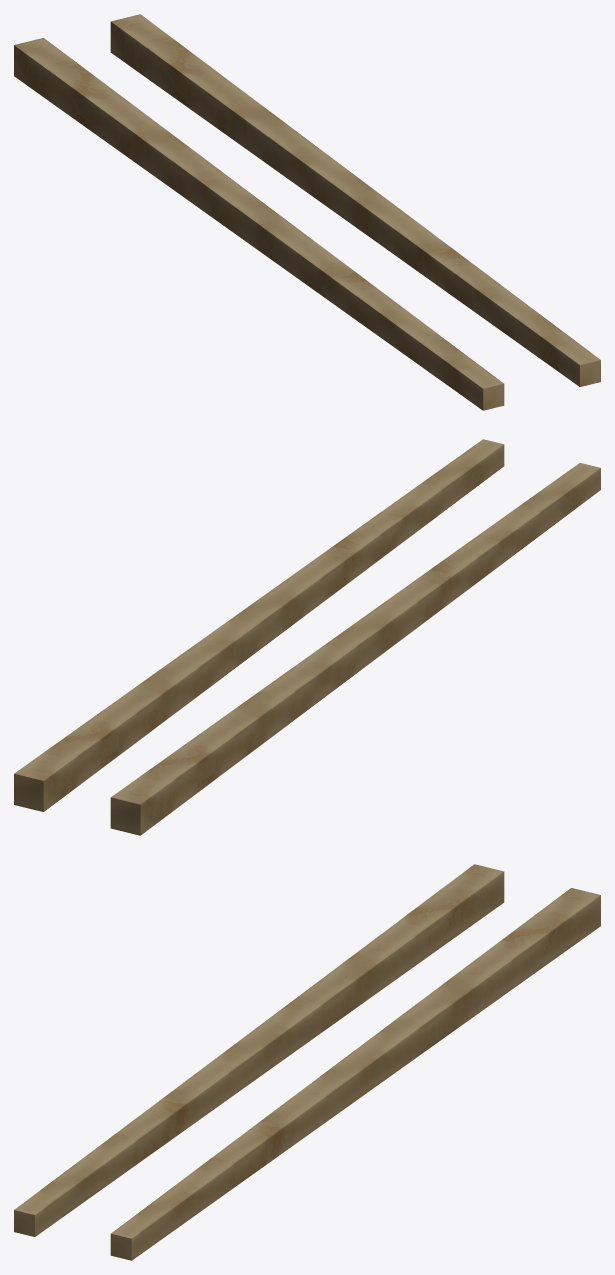
The model's file is chopstick.fbx.
3 renders of one model, top to bottom at view 1: azimuth 30°, elevation 25°; view 2: azimuth 150°, elevation 25°; view 3: azimuth 330°, elevation 25°, orthographic.
Visible parts, largest first — view 1: Cube.004; view 2: Cube.004; view 3: Cube.004.
Boxes of the visible parts, x1,y1,x2,y2 form: Cube.004: [14, 14, 600, 410]; Cube.004: [14, 439, 600, 835]; Cube.004: [14, 864, 600, 1260].
Size of the model in its own units: 2.18 by 0.5129 by 13.88.
